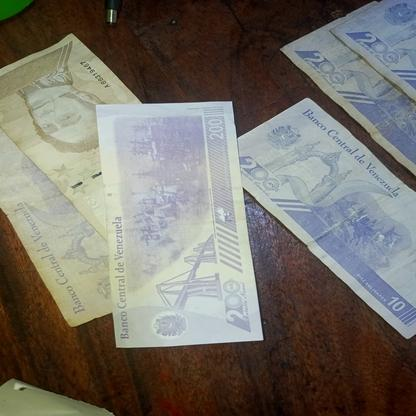five-front-vef: (0, 34, 175, 247)
ten-back-vef: (226, 98, 416, 348), (0, 113, 125, 331), (277, 5, 416, 178), (328, 0, 416, 104)
two_hundred-back-vef: (92, 101, 265, 348)
